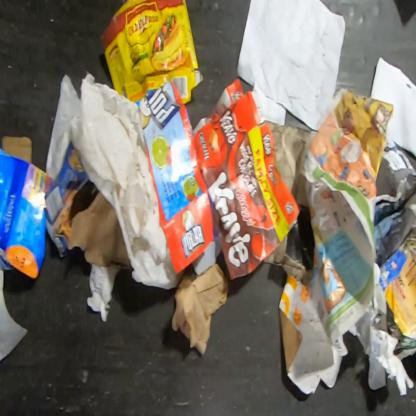cardboard: (135, 80, 215, 274), (99, 0, 205, 105), (261, 122, 317, 282), (278, 272, 344, 396), (0, 134, 55, 280), (46, 138, 90, 260), (68, 190, 132, 271), (192, 235, 223, 276)
soft_plastic: (44, 70, 186, 290), (369, 55, 416, 161), (0, 269, 31, 366)
